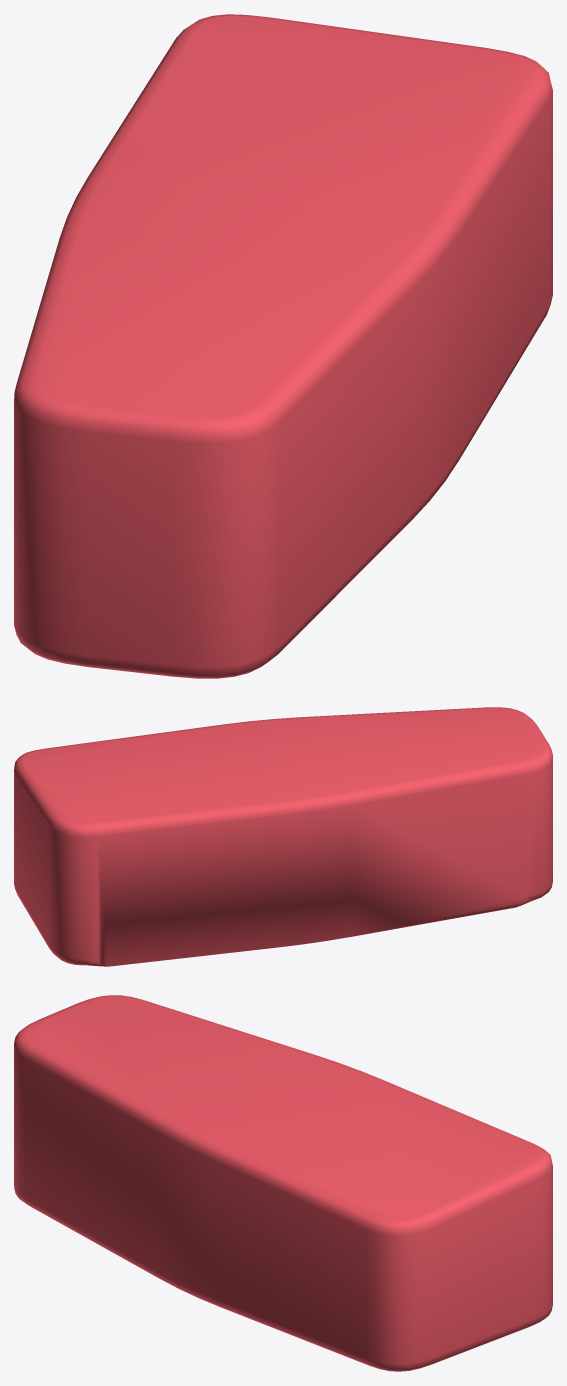
Rendered from Right Paddle.fbx.
3 views of the same model, one above another, from view 1: azimuth 30°, elevation 25°; view 2: azimuth 150°, elevation 25°; view 3: azimuth 270°, elevation 25° (orthographic). The views are drawn at different scales.
Parts seen in each view (by area): view 1: Right Paddle; view 2: Right Paddle; view 3: Right Paddle.
Part boxes in pixels (x1,y1,x2,y2): Right Paddle: [14, 14, 552, 678]; Right Paddle: [14, 707, 552, 966]; Right Paddle: [14, 995, 552, 1371].
Bounding box in the file's own units: 150 × 150 × 49.6.
1 material, 1 textured.
